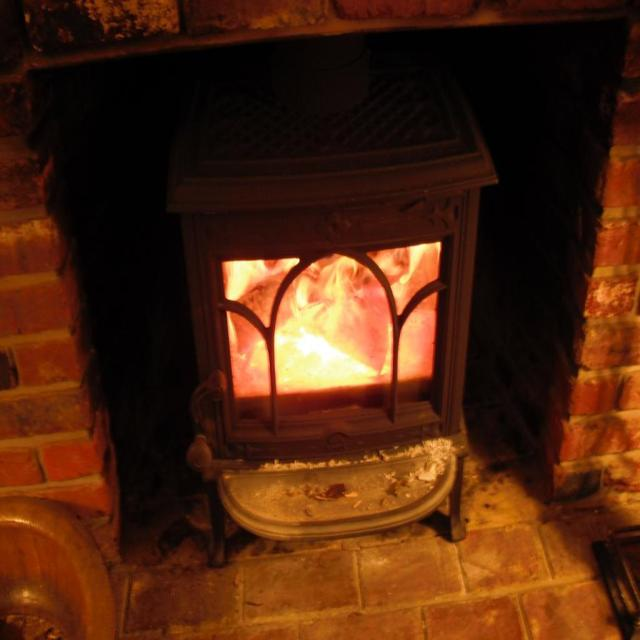Fire: (221, 253, 441, 390)
